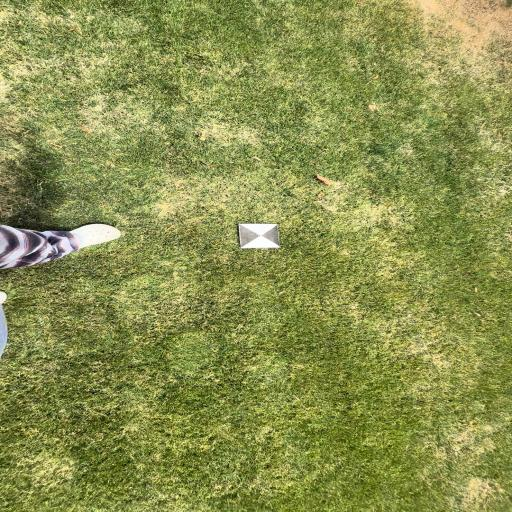target: (238, 223, 280, 248)
